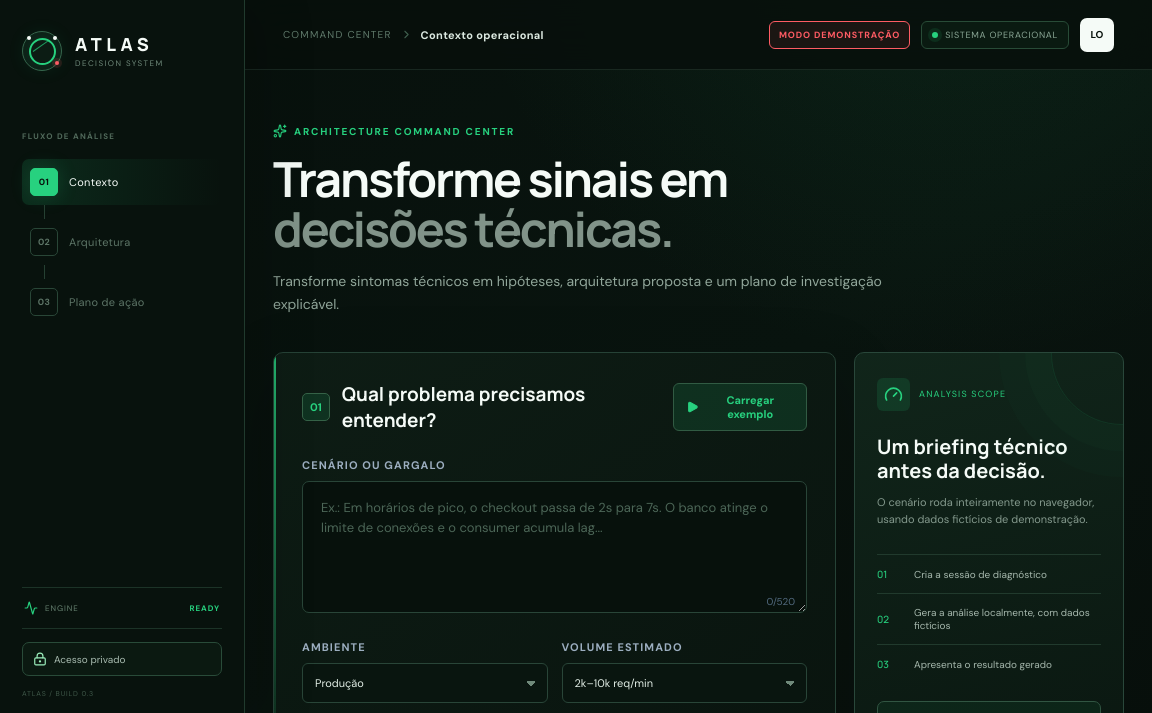
Scenario: demo mode (offline, fictitious data — mocked in the sense that the whole backend is stubbed by design) › prevents duplicate submissions while a request is in flight
Click the button "Carregar exemplo" at coordinates (740, 407), box [673,383,807,431]
(page scrolled)
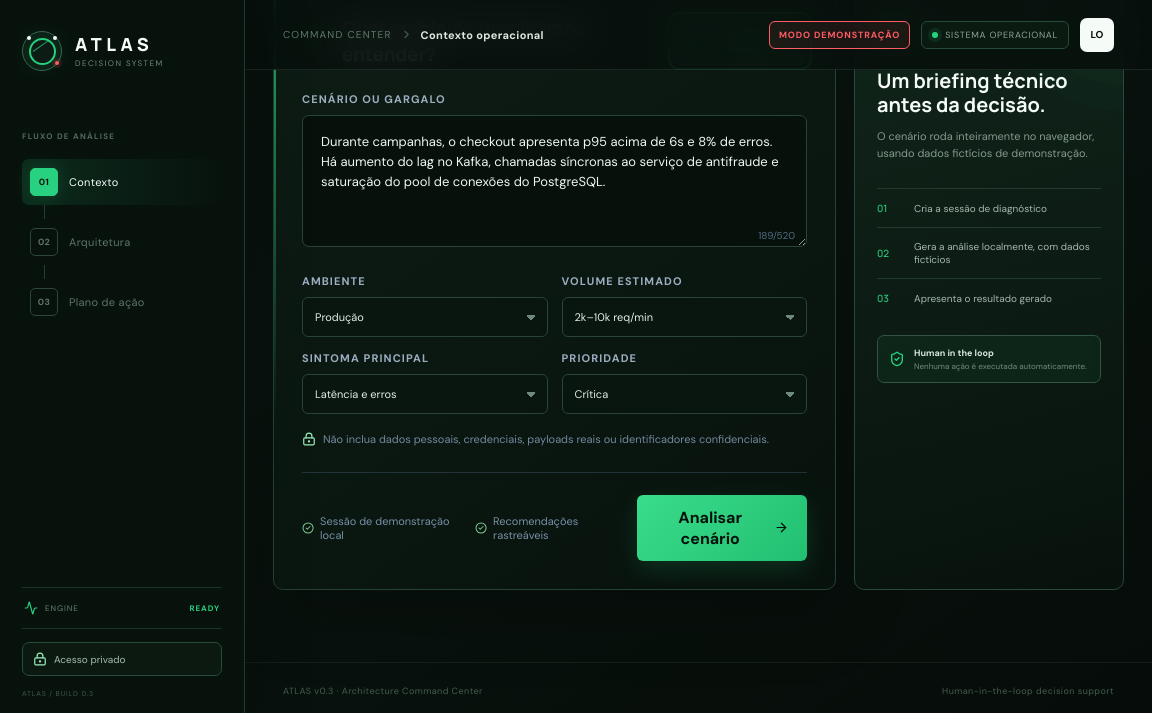
Click the button "Analisar cenário" at coordinates (722, 528), box [637,495,807,561]
(page scrolled)
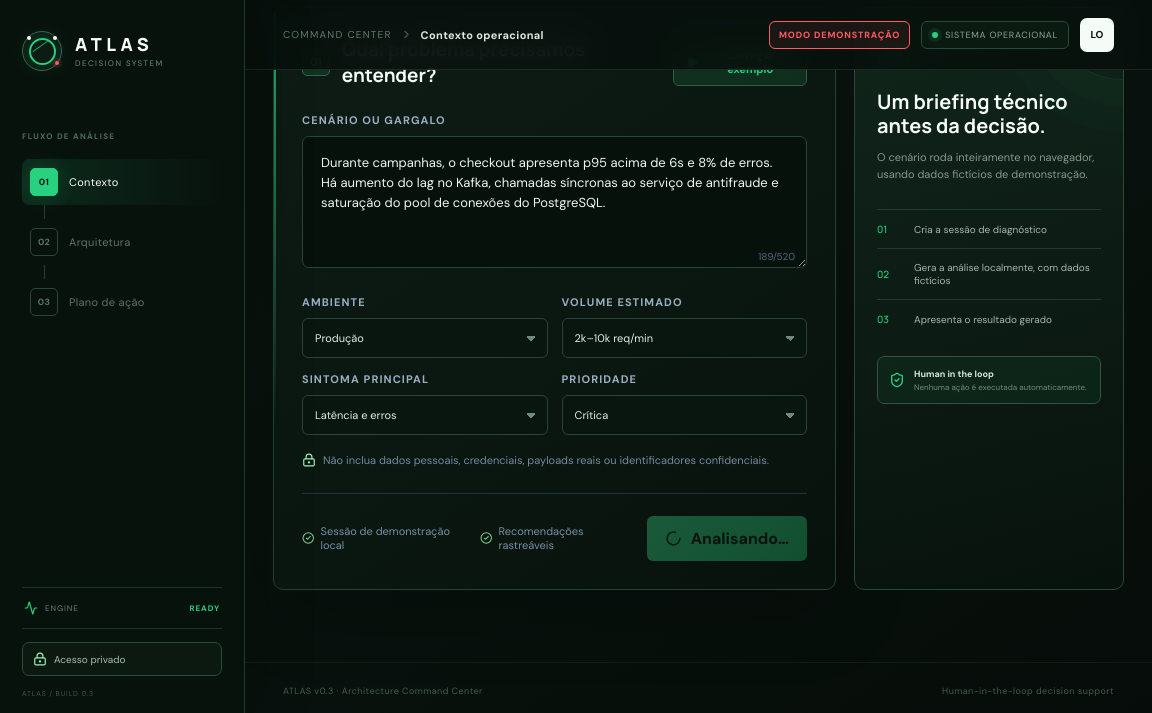
expect the button named "analisar cenário" is disabled: met
Click the button named "analisar cenário" at coordinates (727, 538), box [647,516,807,561]
(page scrolled)
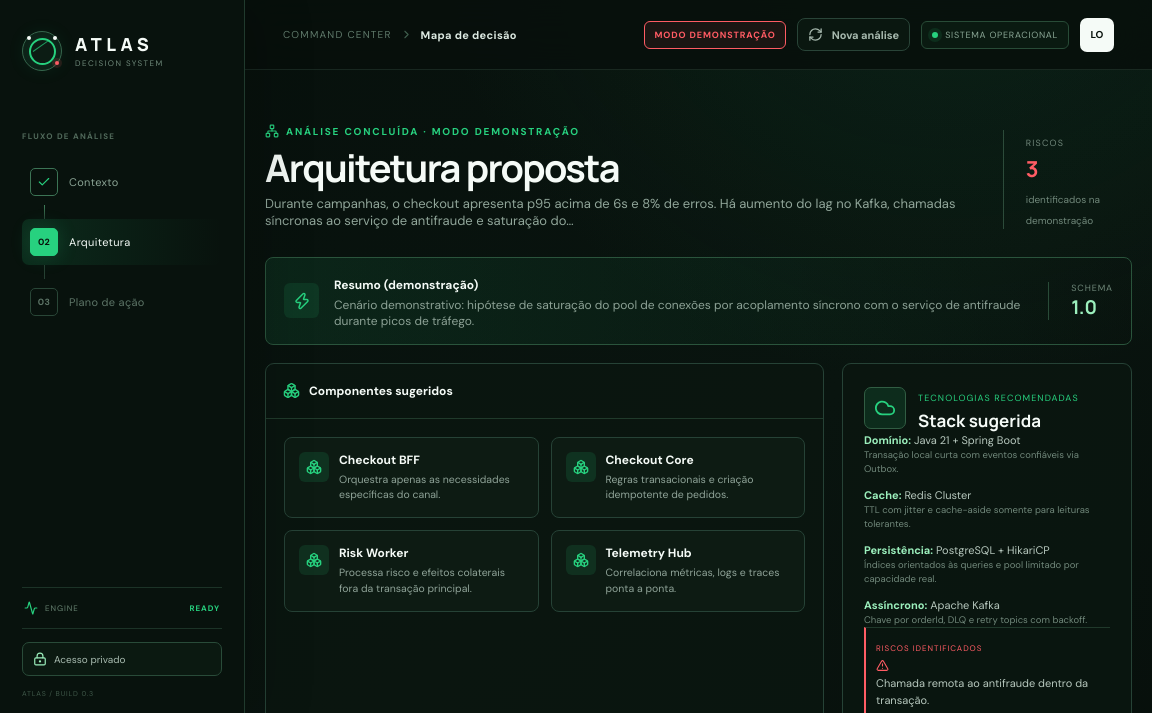
expect the heading "Arquitetura proposta" is shown: met, box [265,141,619,193]
